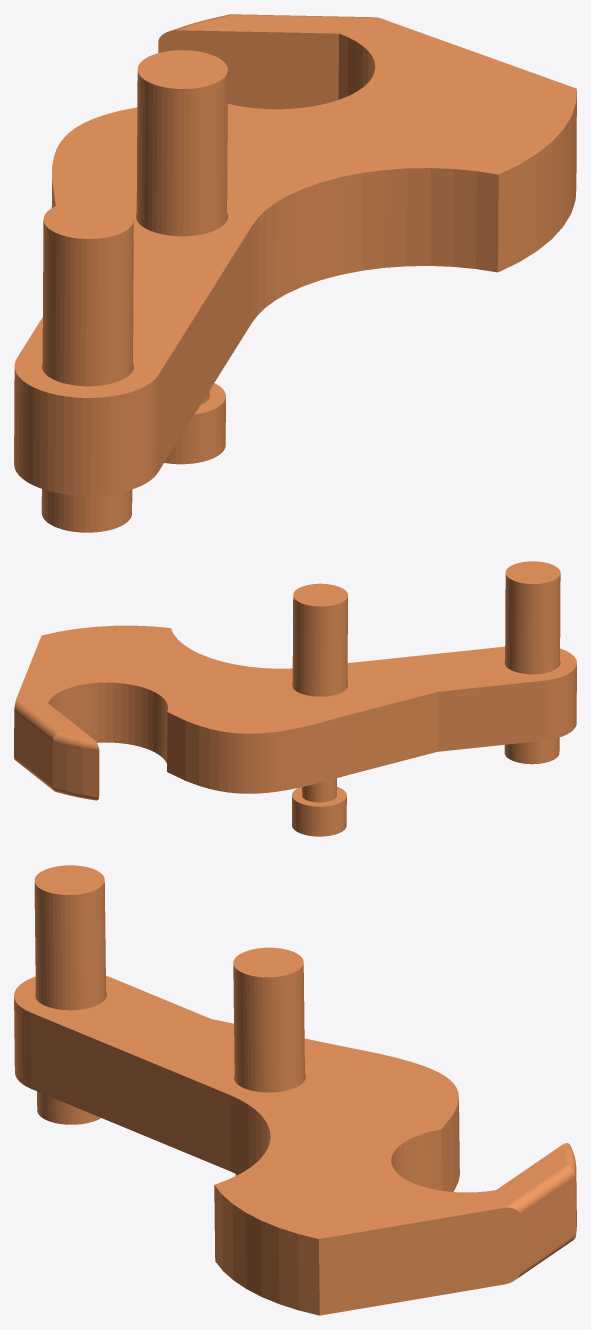
File: claw_jaw_a.glb
3 renders of one model, top to bottom at view 1: azimuth 30°, elevation 25°; view 2: azimuth 150°, elevation 25°; view 3: azimuth 270°, elevation 25°, orthographic. The views are drawn at different scales.
Size of the model in its own units: 0.0152 by 0.00768 by 0.0133.
